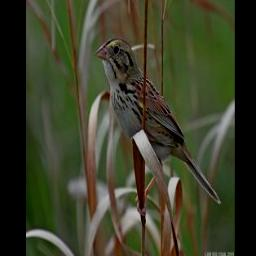Sparrow: (93, 36, 222, 215)
